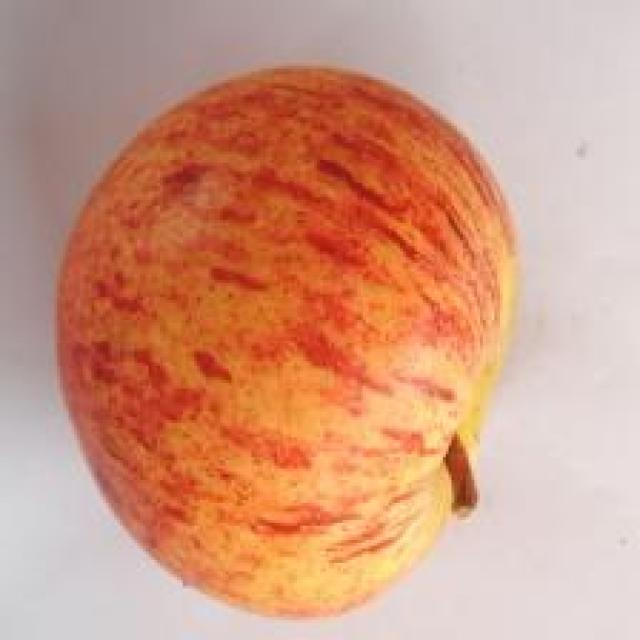apple: (33, 49, 550, 640)
